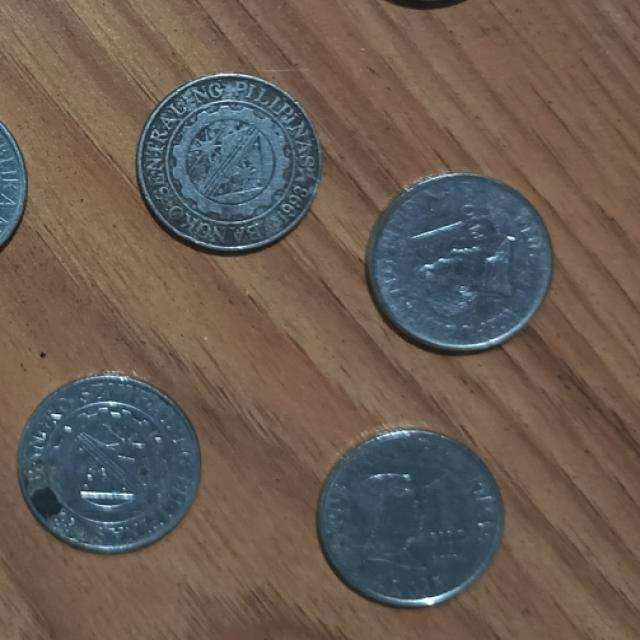1_peso: (368, 173, 551, 349), (137, 74, 321, 248), (319, 430, 503, 604), (19, 376, 198, 552)
